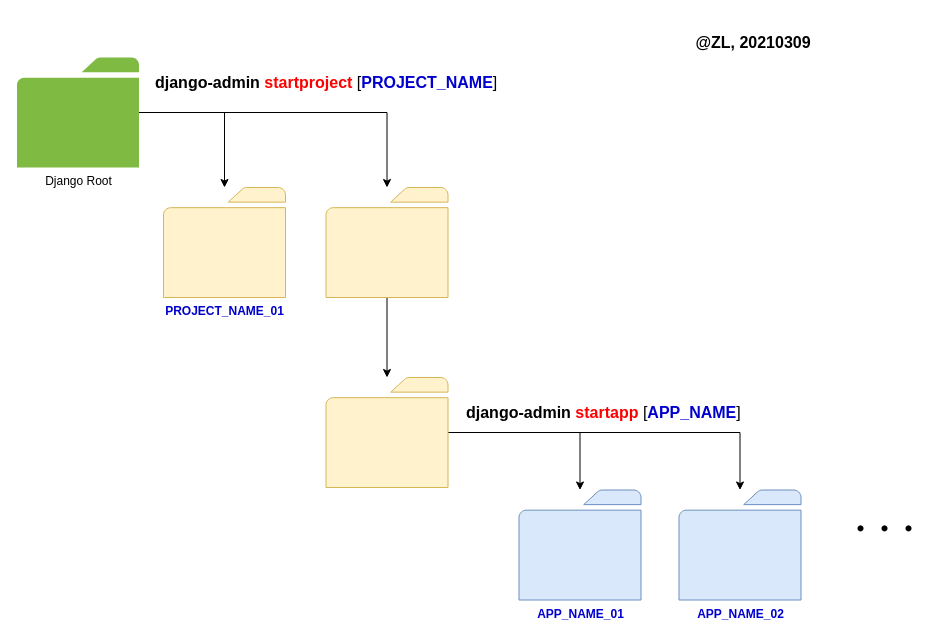
Some shapes in this 946 by 638 pixel diagram are drawn without their labels. Here are the shapes that lost their labels. From the top down, the centre of each, then its label:
At [386,242]: "PROJECT_NAME_02".
At [386,432]: "subdir, same_name PROJECT_NAME_02".
